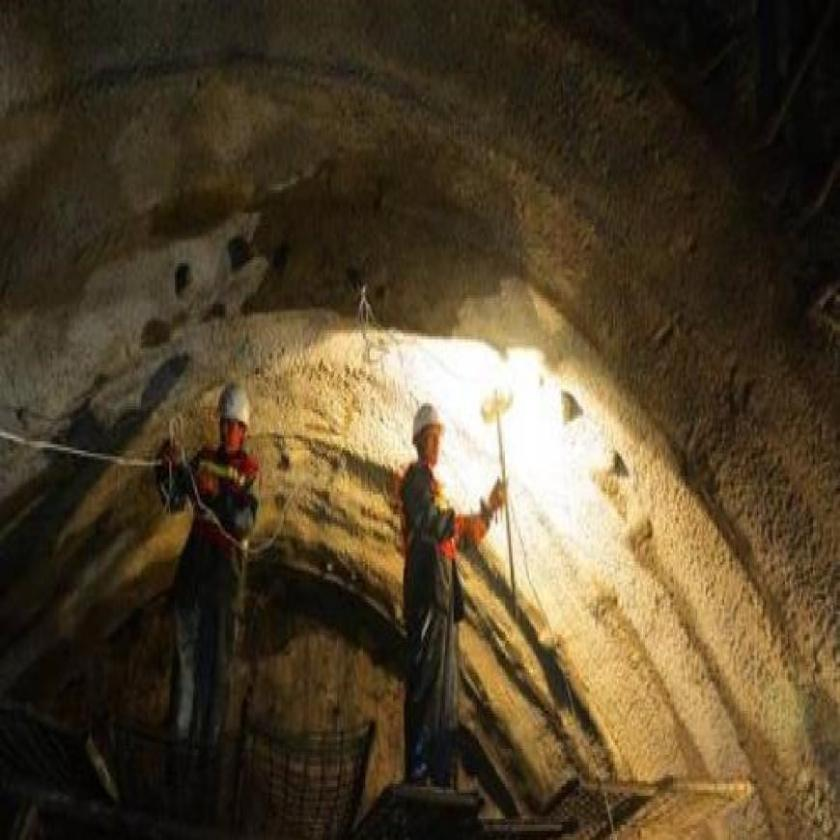Con_casco: (218, 383, 254, 456), (409, 402, 448, 468)
